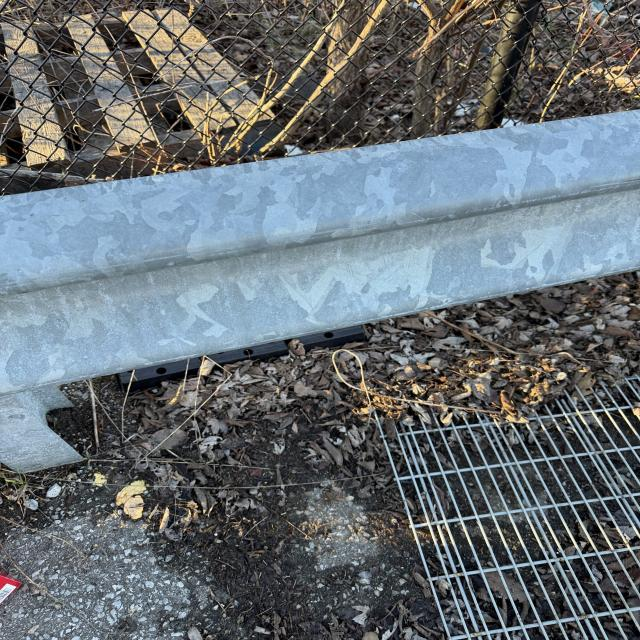Guard rail: (28, 126, 639, 352)
